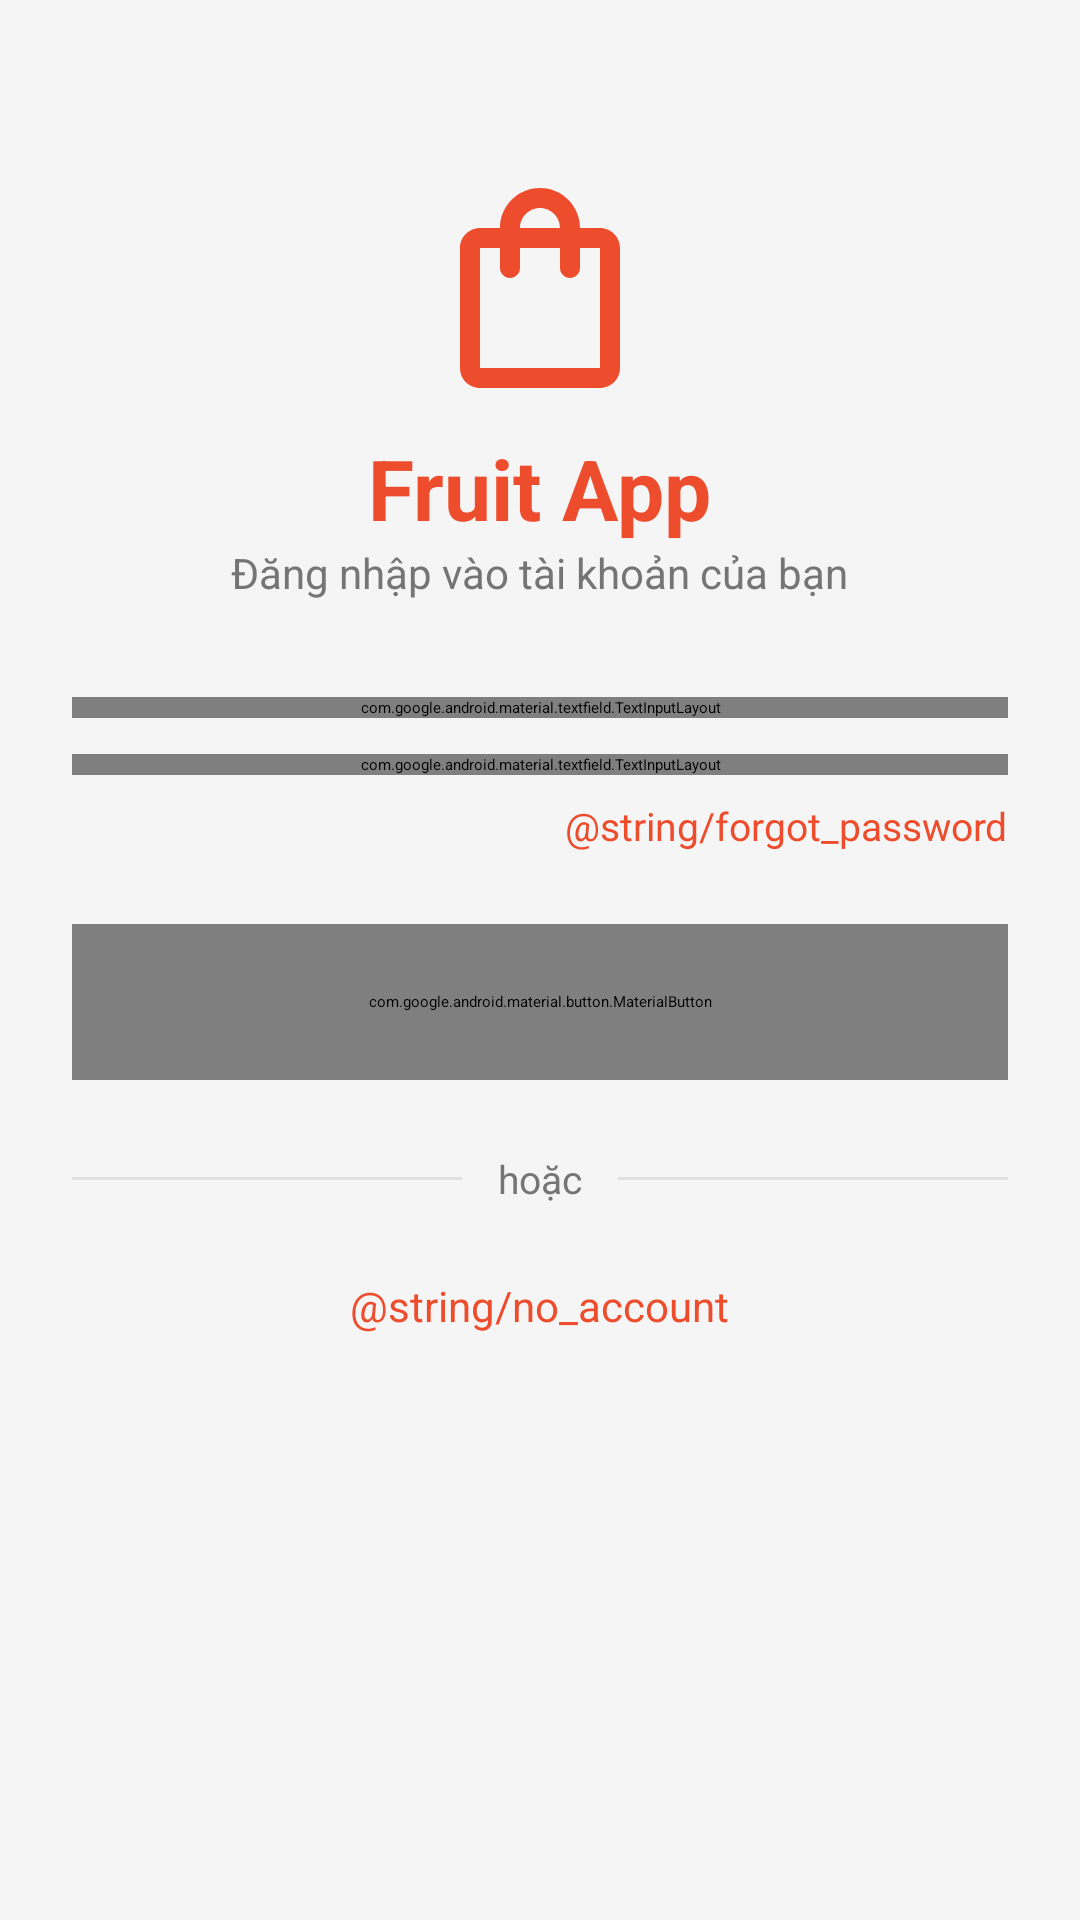

Where icons sit on this 1080x1920 app screen, as (x1, y1, x2, y2):
shopping bag: (460, 188, 620, 388)
